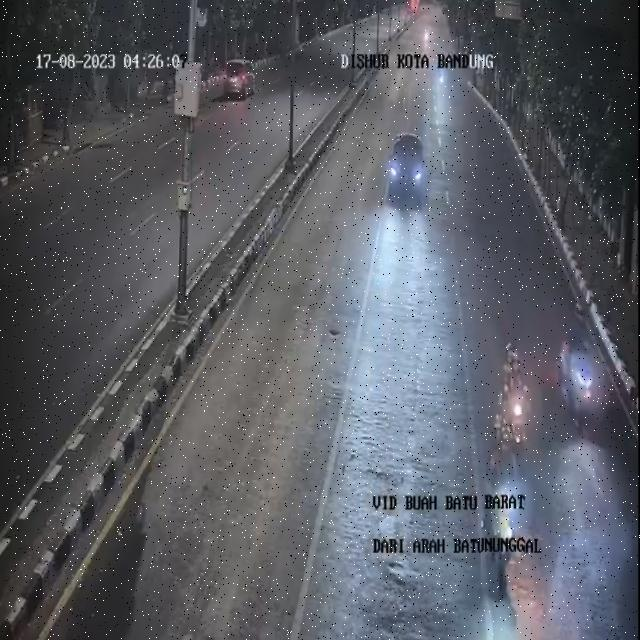cars: (388, 135, 428, 197)
motorcycle: (482, 424, 523, 606), (558, 306, 597, 439), (494, 345, 529, 468)
